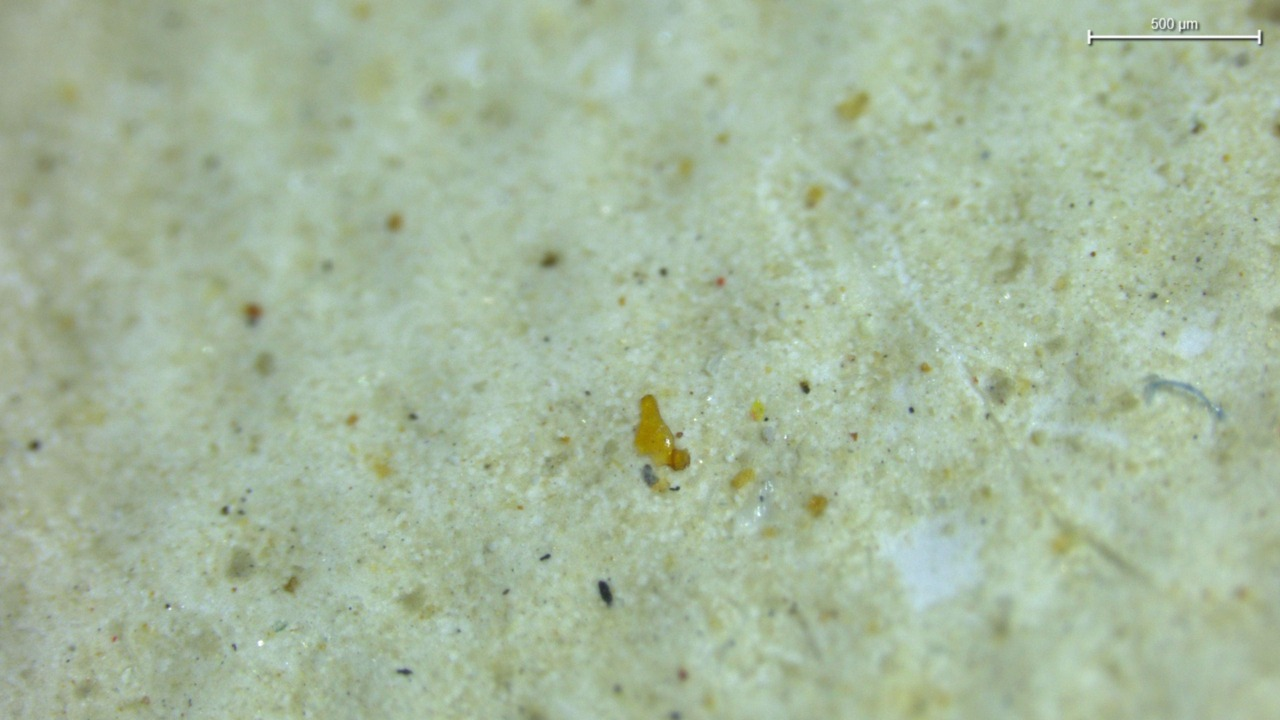microplastic_fragment: (634, 395, 690, 470)
